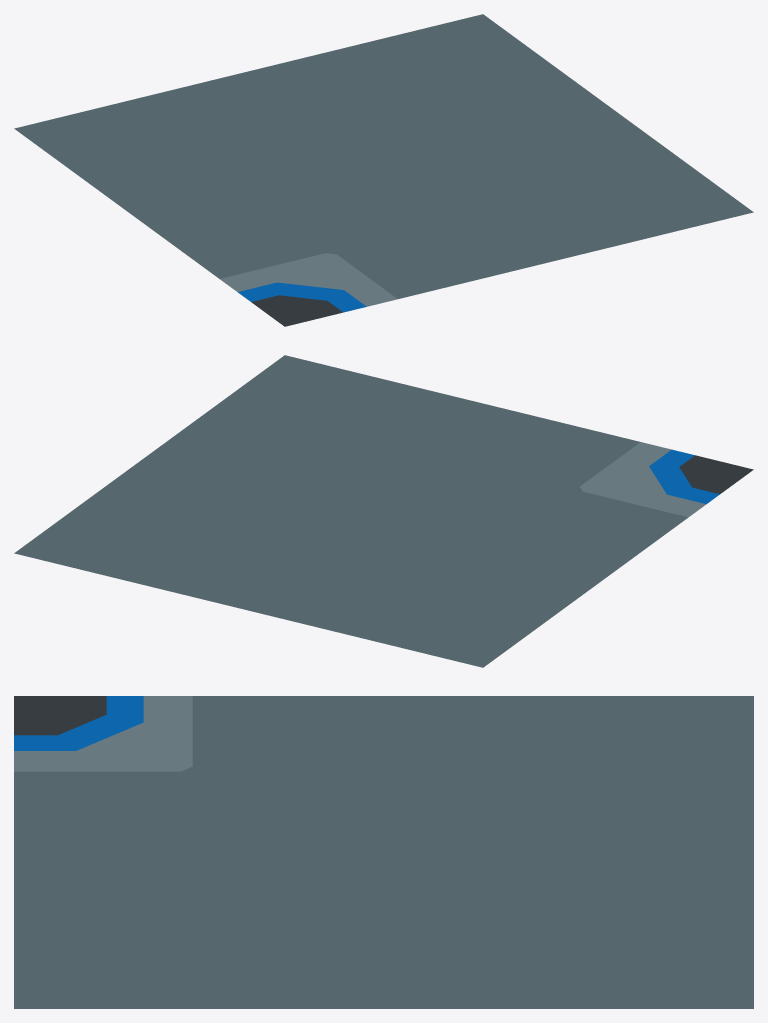
Rendered from Ceiling_type_C_026.fbx.
The picture shows the model from 3 angles, top to bottom: view 1: azimuth 30°, elevation 25°; view 2: azimuth 150°, elevation 25°; view 3: azimuth 270°, elevation 25°; orthographic projection. The views are drawn at different scales.
Parts seen in each view (by area): view 1: Ceiling_type_C_026; view 2: Ceiling_type_C_026; view 3: Ceiling_type_C_026.
Part boxes in pixels (x1=…): Ceiling_type_C_026: x1=14, y1=14, x2=753, y2=326; Ceiling_type_C_026: x1=14, y1=355, x2=753, y2=667; Ceiling_type_C_026: x1=14, y1=696, x2=753, y2=1008.
Bounding box in the file's own units: 400 × 400 × 6.18.
